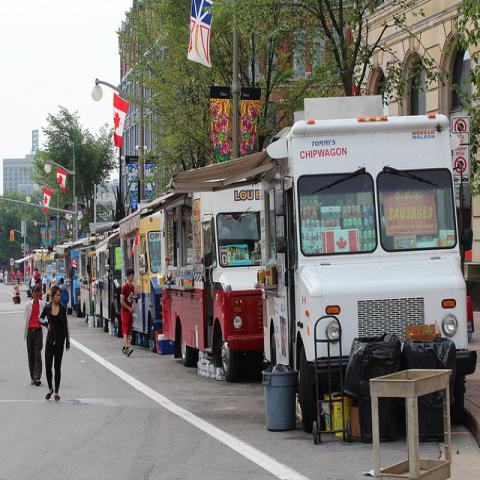truck: (164, 94, 478, 434), (162, 190, 264, 379), (119, 198, 165, 346), (79, 221, 119, 318), (94, 229, 123, 337), (62, 241, 82, 317), (38, 251, 66, 301), (14, 245, 50, 276)
